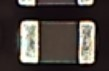COMP: (13, 17, 101, 69)
GAP: (19, 1, 94, 39)
